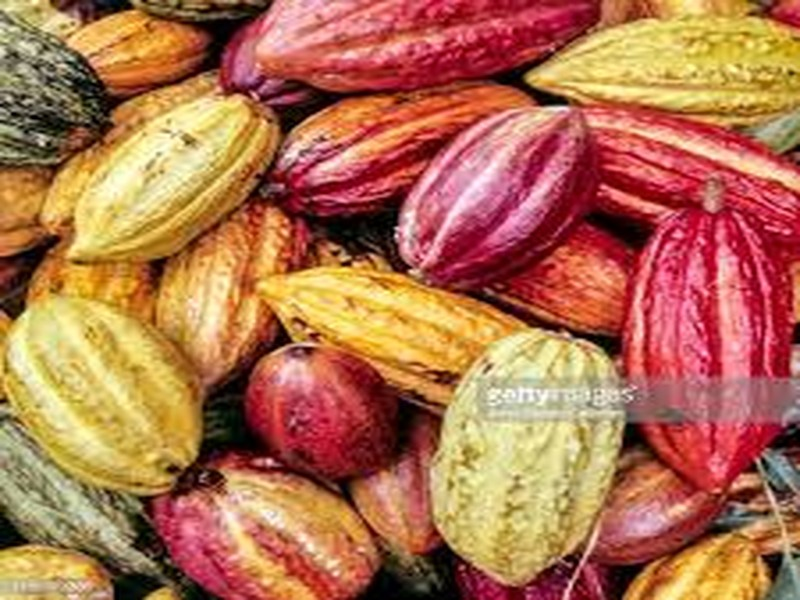Cacaopod: (394, 106, 606, 283), (70, 96, 269, 264)
